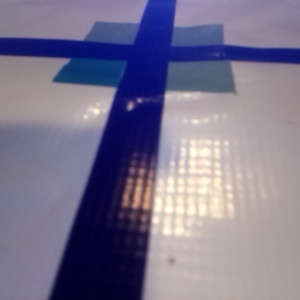bottom_right: (120, 40, 221, 80)
top_right: (89, 174, 273, 300)
